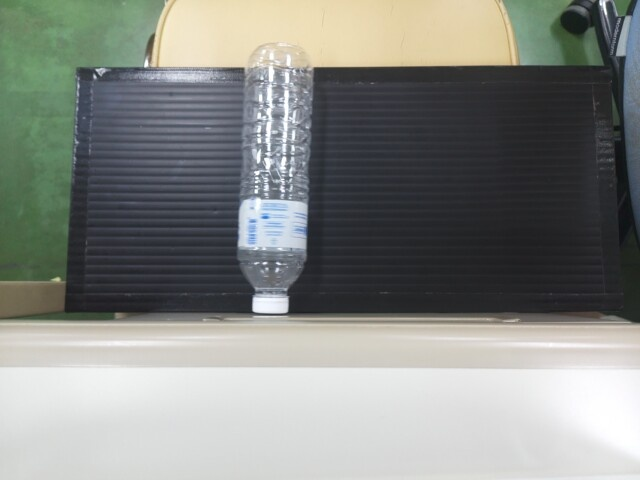plastic_bottle: (242, 45, 308, 311)
